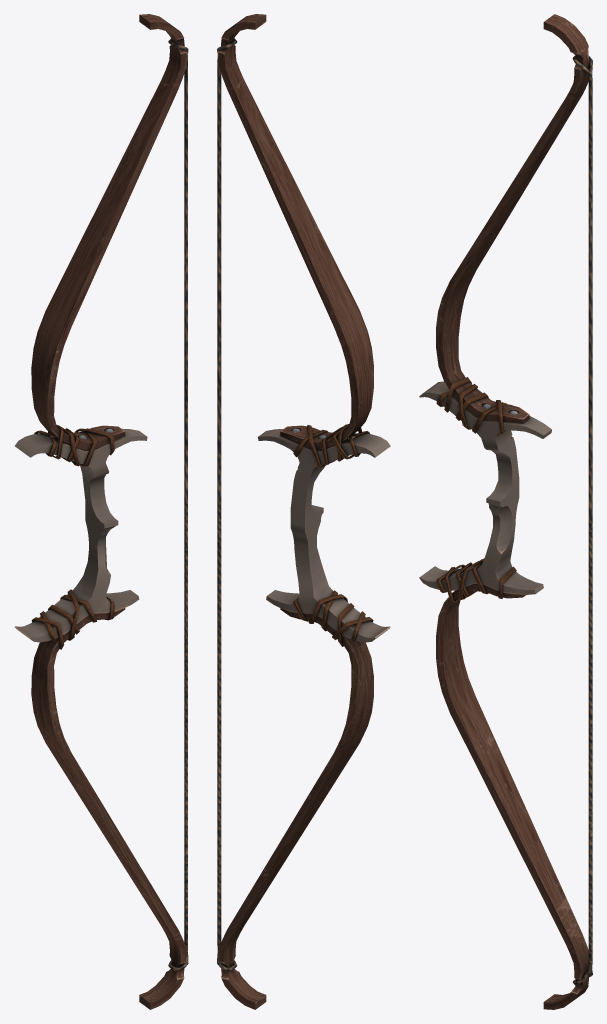
File: Bow.fbx
3 renders of one model, left to right at view 1: azimuth 30°, elevation 25°; view 2: azimuth 150°, elevation 25°; view 3: azimuth 330°, elevation 25°, orthographic.
Visible parts, largest first — view 1: Bow; view 2: Bow; view 3: Bow.
Boxes of the visible parts, x1,y1,x2,y2 form: Bow: (14, 14, 188, 1009); Bow: (217, 14, 390, 1009); Bow: (419, 14, 592, 1009).
Size of the model in its own units: 35.14 by 200 by 7.8.
Materials: 1 (1 with a texture image).
